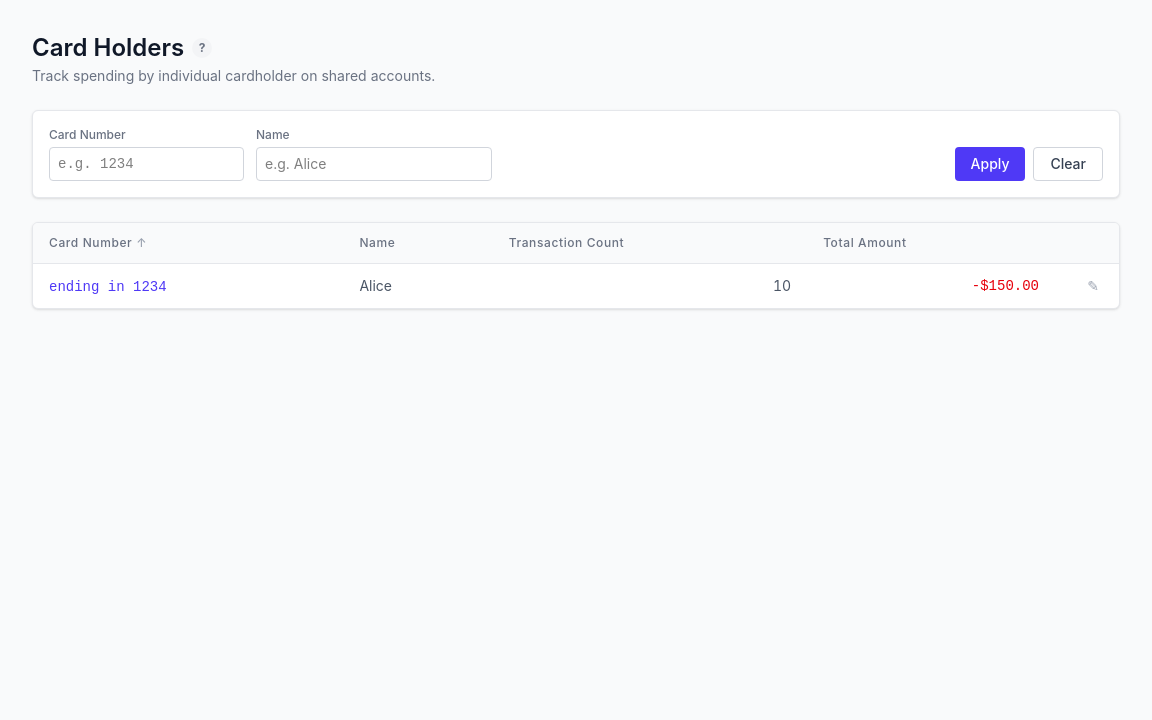
Test: CardHoldersPage › opens details modal when card number button is clicked
The image size is (1152, 720).
Click the button "ending in 1234" at (108, 286), box [49,276,167,296]
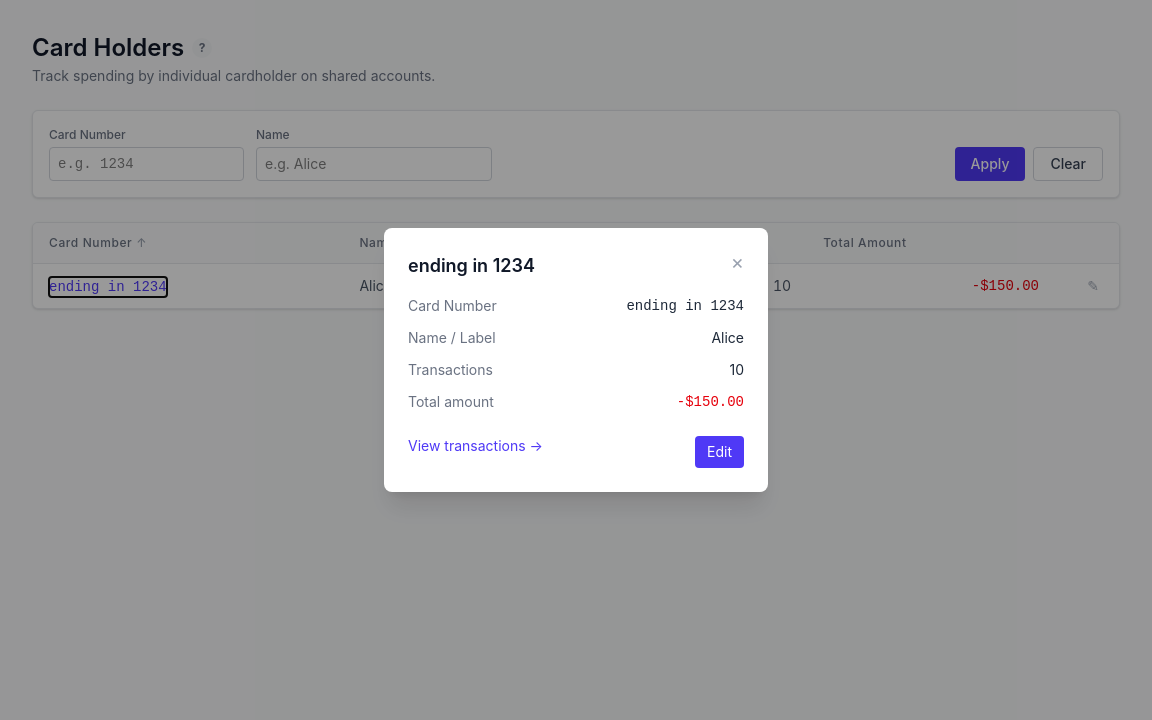
Result: the link "View transactions →" is shown at [408,437,543,454]
